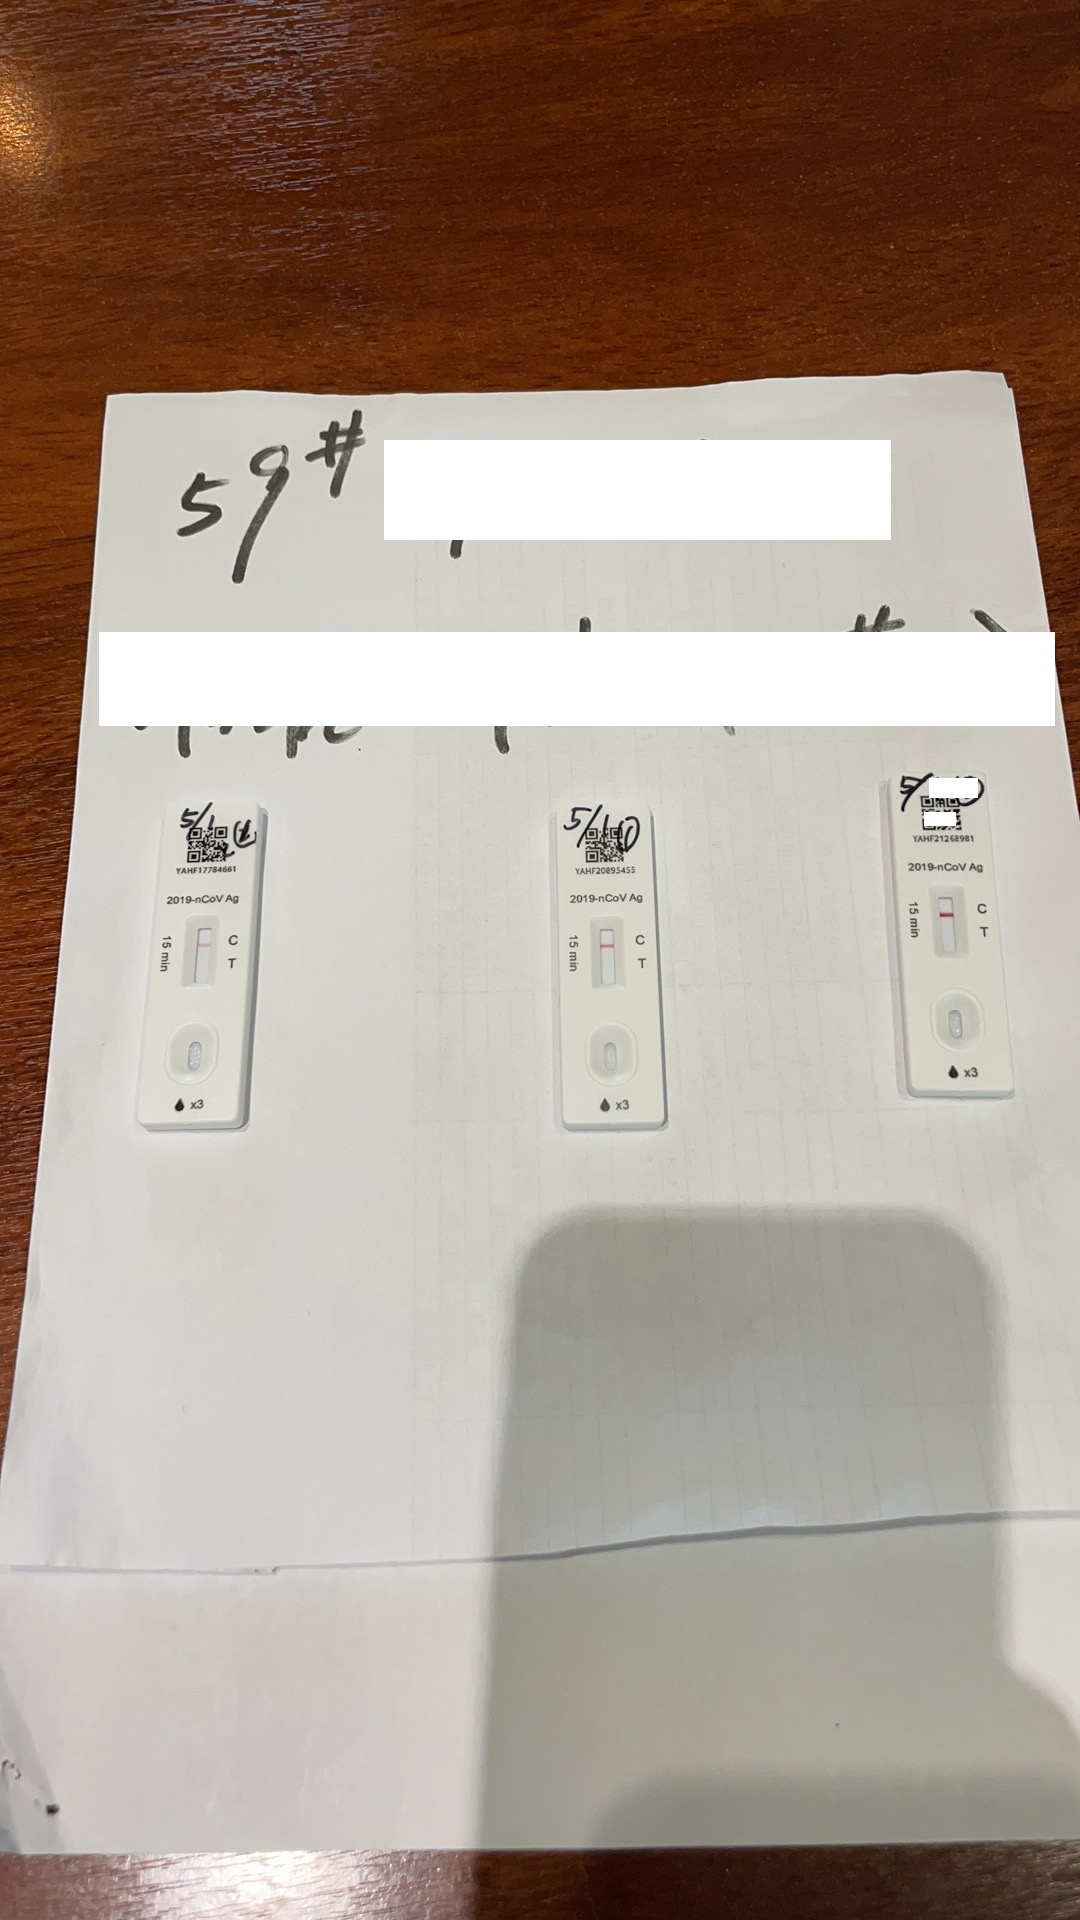negative: (589, 916, 630, 996), (928, 887, 967, 965), (183, 916, 220, 992)
